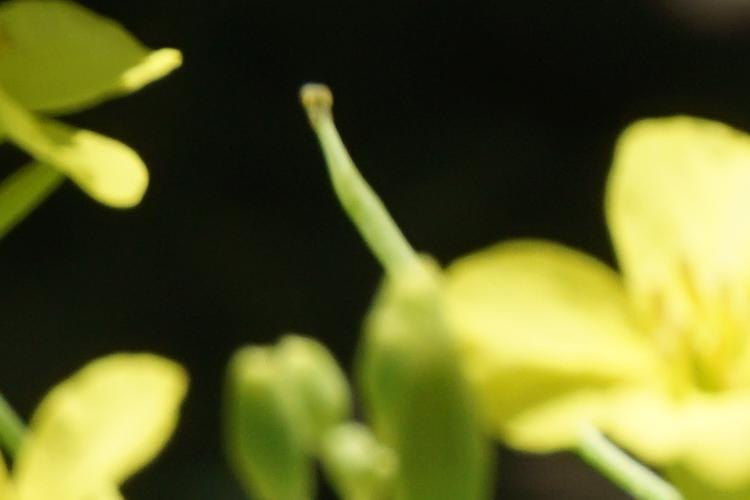bud: (355, 320, 479, 490), (236, 350, 307, 497), (273, 328, 354, 432)
pod: (294, 86, 430, 281)
yellow: (469, 88, 748, 485), (6, 5, 169, 206), (15, 346, 182, 500)
